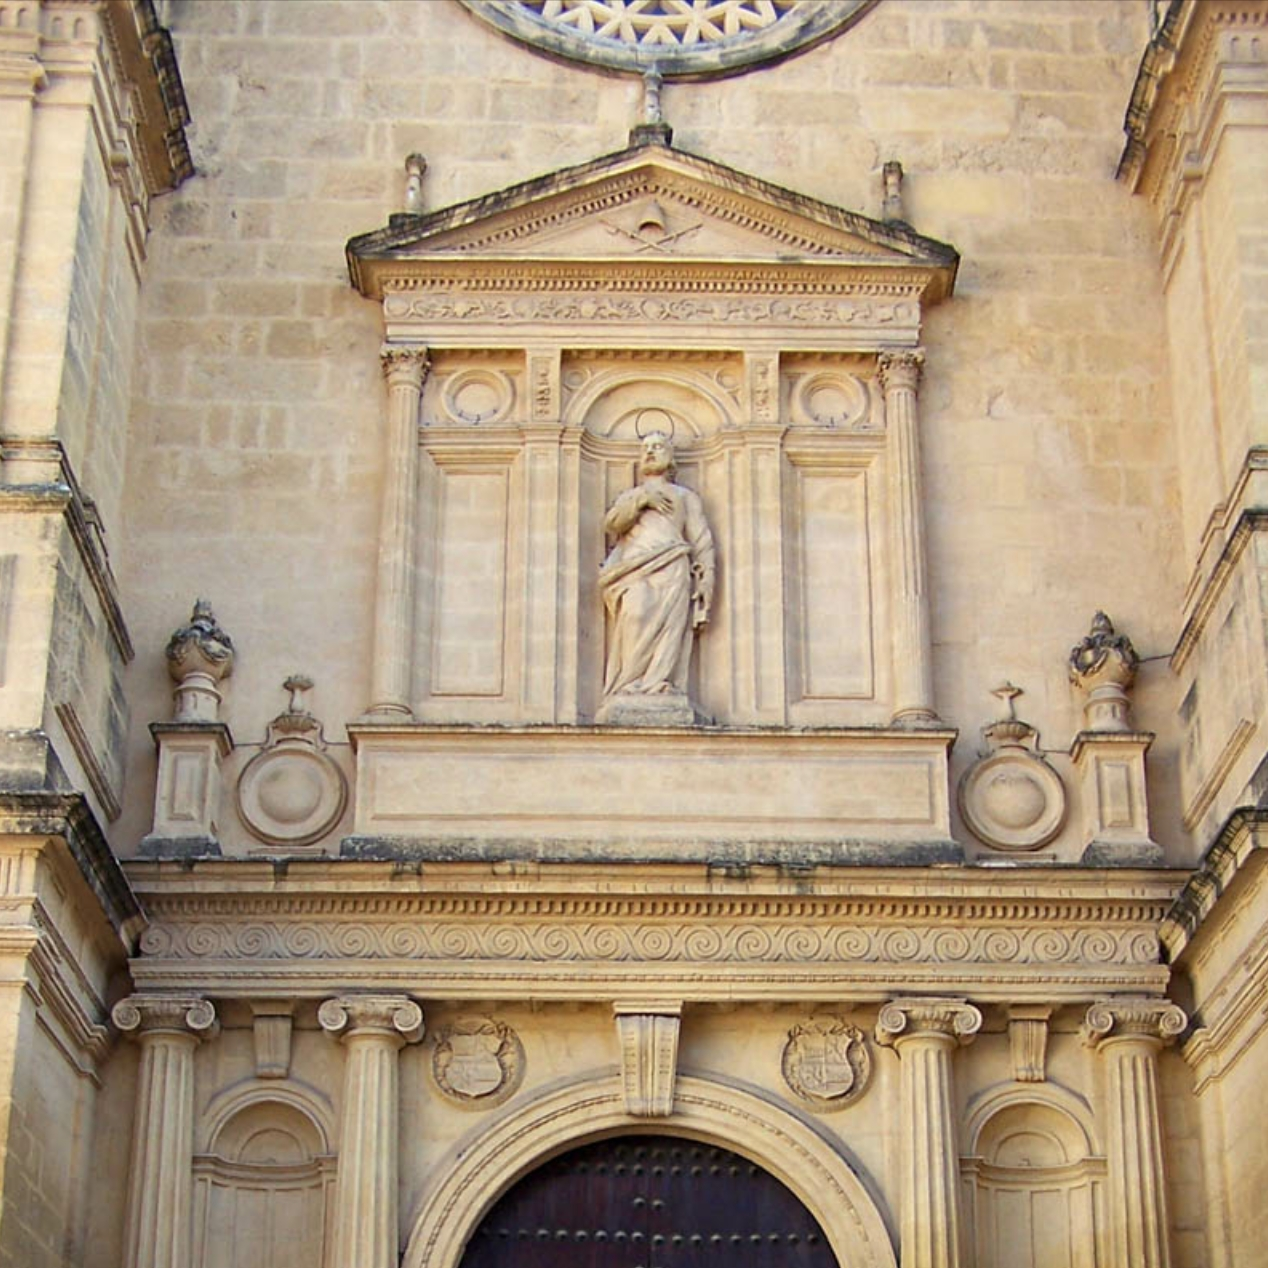fronton: (340, 132, 965, 301)
serliana: (383, 354, 921, 722)
